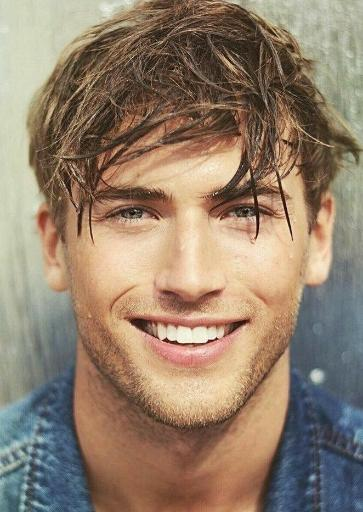left_eye: (216, 204, 276, 225)
left_lip_corner: (234, 313, 256, 337)
right_eye: (103, 204, 166, 229)
right_lip_corner: (121, 311, 146, 335)
